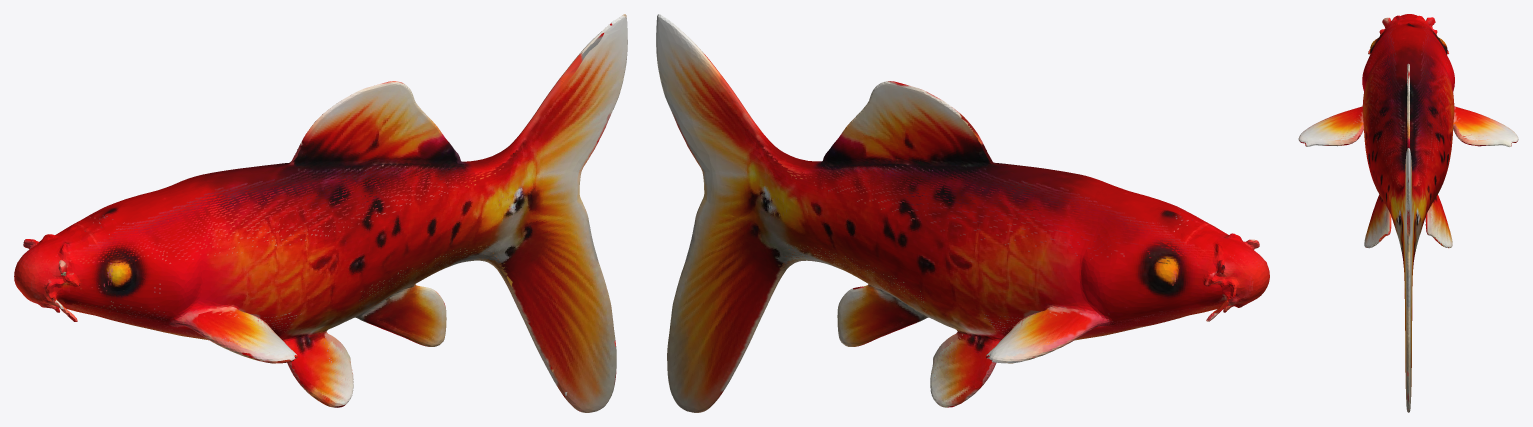
Rendered from traveler_env_coast_bayushi_pond_koi_00001_.glb.
3 views of the same model, side by side, from view 1: azimuth 30°, elevation 25°; view 2: azimuth 150°, elevation 25°; view 3: azimuth 270°, elevation 25° (orthographic). The views are drawn at different scales.
Parts seen in each view (by area): view 1: temp_mesh.ply; view 2: temp_mesh.ply; view 3: temp_mesh.ply.
Boxes of the visible parts, x1,y1,x2,y2 form: temp_mesh.ply: [14, 14, 627, 412]; temp_mesh.ply: [656, 14, 1269, 412]; temp_mesh.ply: [1298, 14, 1518, 412].
Bounding box in the file's own units: 1.92 × 1.18 × 0.8579.
Materials: 1 (1 with a texture image).
